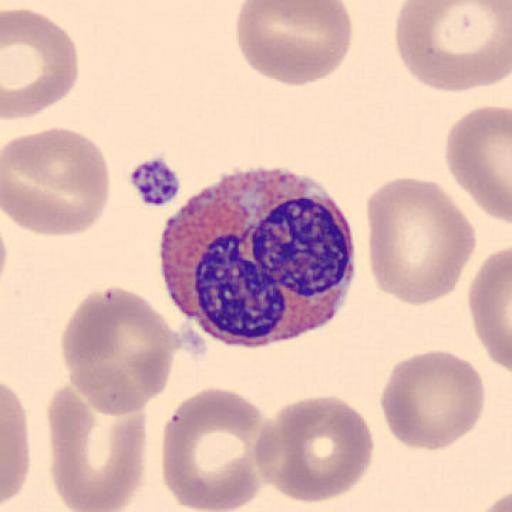Platelet: (126, 154, 184, 208)
RBC: (62, 285, 180, 417), (364, 174, 478, 308), (160, 385, 265, 512), (254, 394, 375, 504), (46, 382, 146, 512), (1, 126, 111, 238), (379, 348, 487, 453), (394, 0, 512, 95), (235, 0, 354, 89), (2, 6, 80, 122), (445, 104, 512, 224), (468, 244, 512, 374), (0, 380, 30, 509), (478, 486, 512, 511)
WBC: (156, 164, 357, 347)
